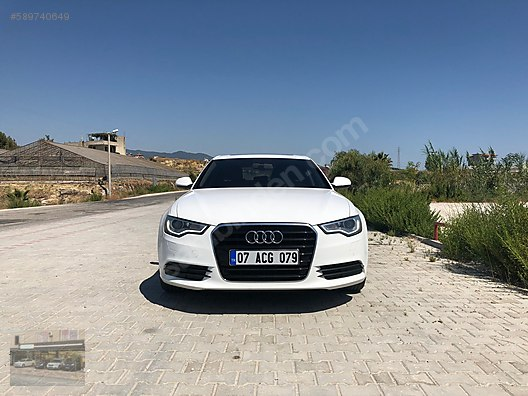audi: (241, 227, 289, 247)
